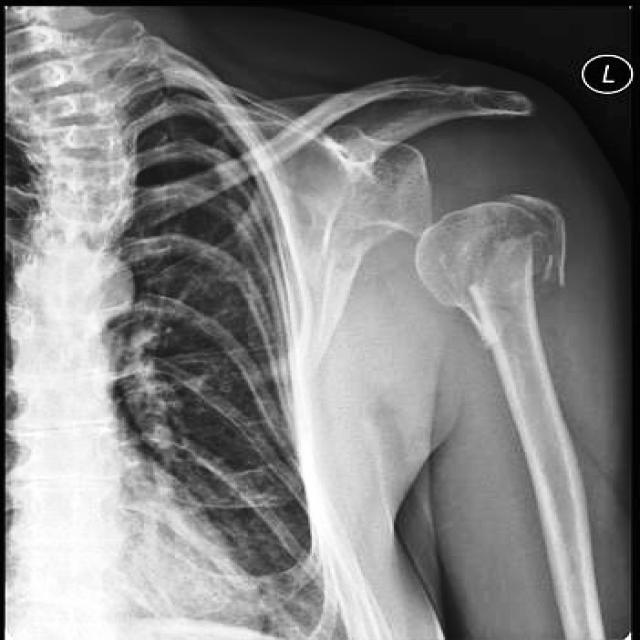Fracture Dislocation: (404, 71, 550, 222)
